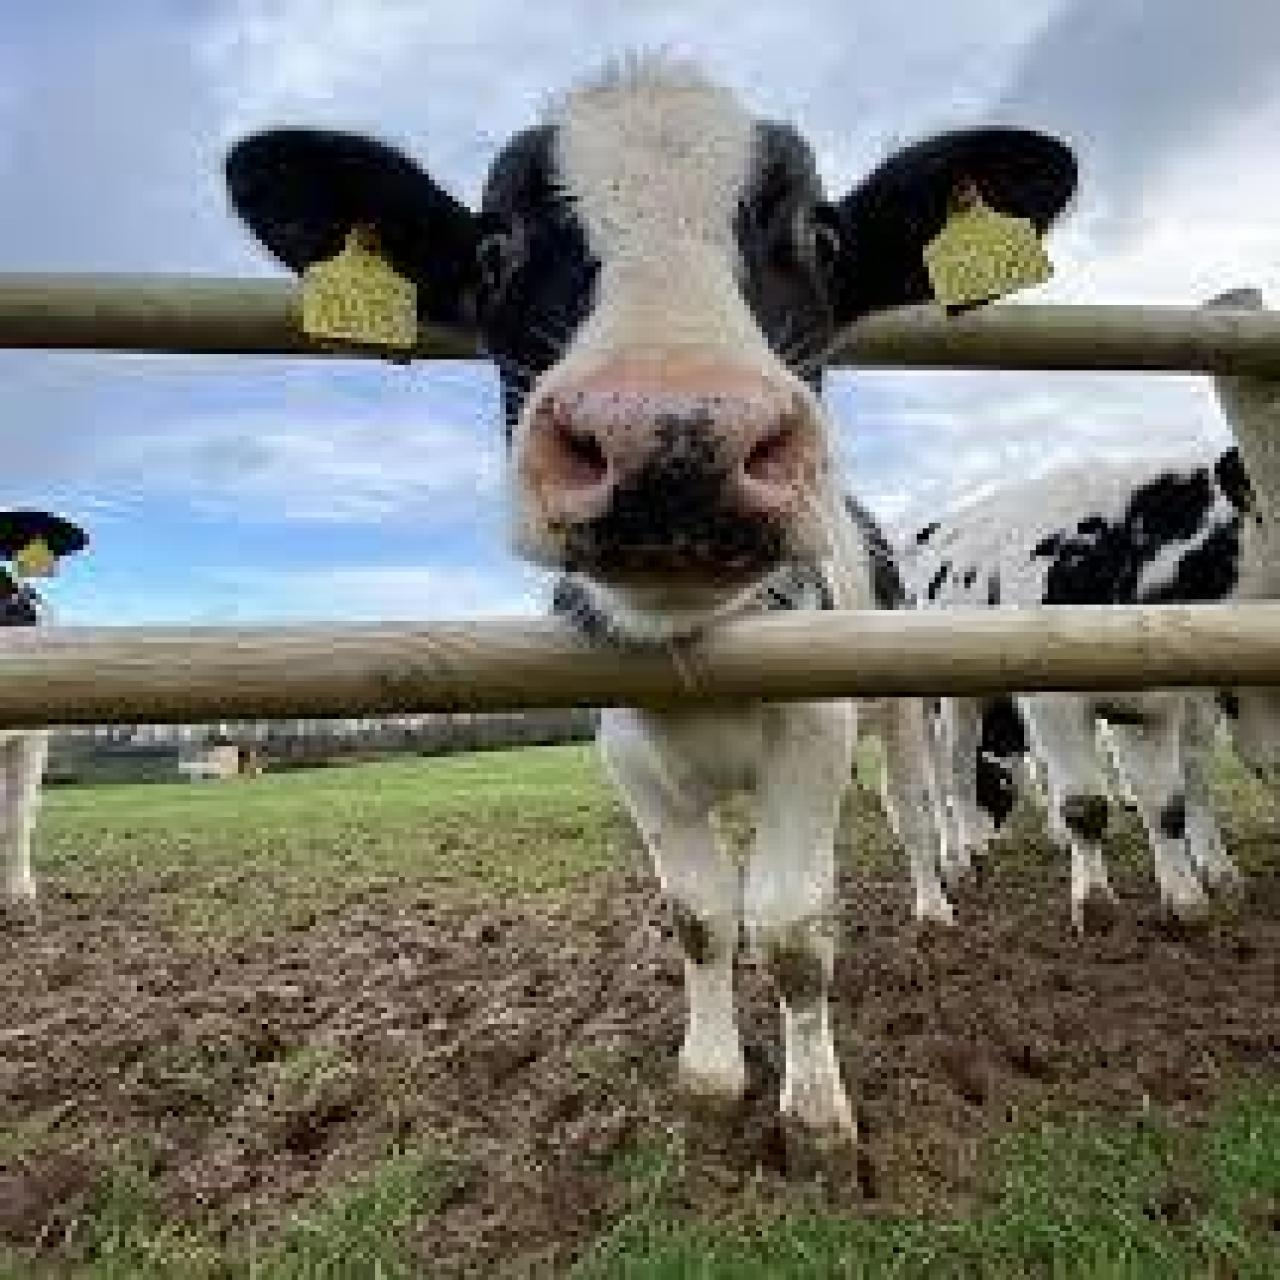cow: (211, 90, 1081, 1169), (899, 447, 1280, 920), (2, 506, 87, 904)
